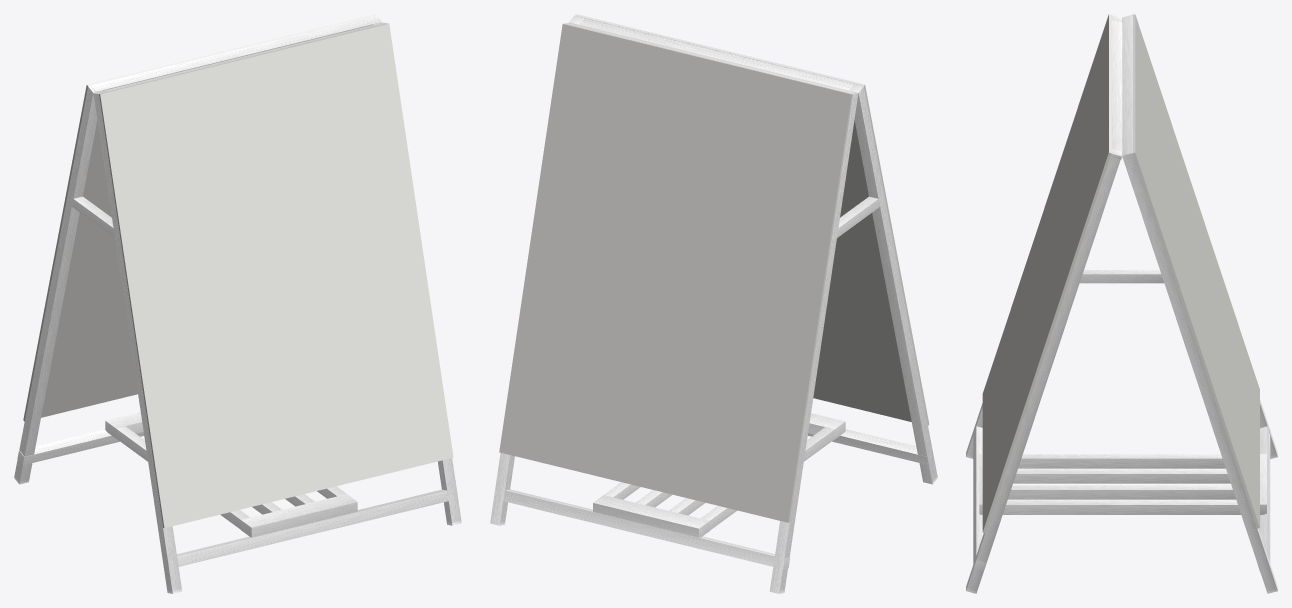
3 renders of one model, left to right at view 1: azimuth 30°, elevation 25°; view 2: azimuth 150°, elevation 25°; view 3: azimuth 270°, elevation 25°, orthographic.
Visible parts, largest first — view 1: whiteboard_front, bottom_pole05, whiteboard_behind, side_pole_right; view 2: whiteboard_behind, bottom_pole05, whiteboard_front, side_pole_right; view 3: bottom_pole05, whiteboard_front, whiteboard_behind, side_pole_left.
Part boxes in pixels (box(x1,y1,x2,y2)): whiteboard_front: box(99, 23, 453, 528); bottom_pole05: box(14, 15, 461, 593); whiteboard_behind: box(23, 14, 376, 421); side_pole_right: box(72, 196, 114, 237); whiteboard_behind: box(499, 23, 852, 522); bottom_pole05: box(490, 15, 937, 593); whiteboard_front: box(575, 14, 929, 425); side_pole_right: box(837, 196, 879, 237); bottom_pole05: box(966, 15, 1277, 593); whiteboard_front: box(982, 14, 1111, 533); whiteboard_behind: box(1132, 14, 1259, 528); side_pole_left: box(1080, 270, 1163, 283).
Bounding box in the file's own units: 91.32 × 135 × 86.54.
Materials: 2 (2 with a texture image).
